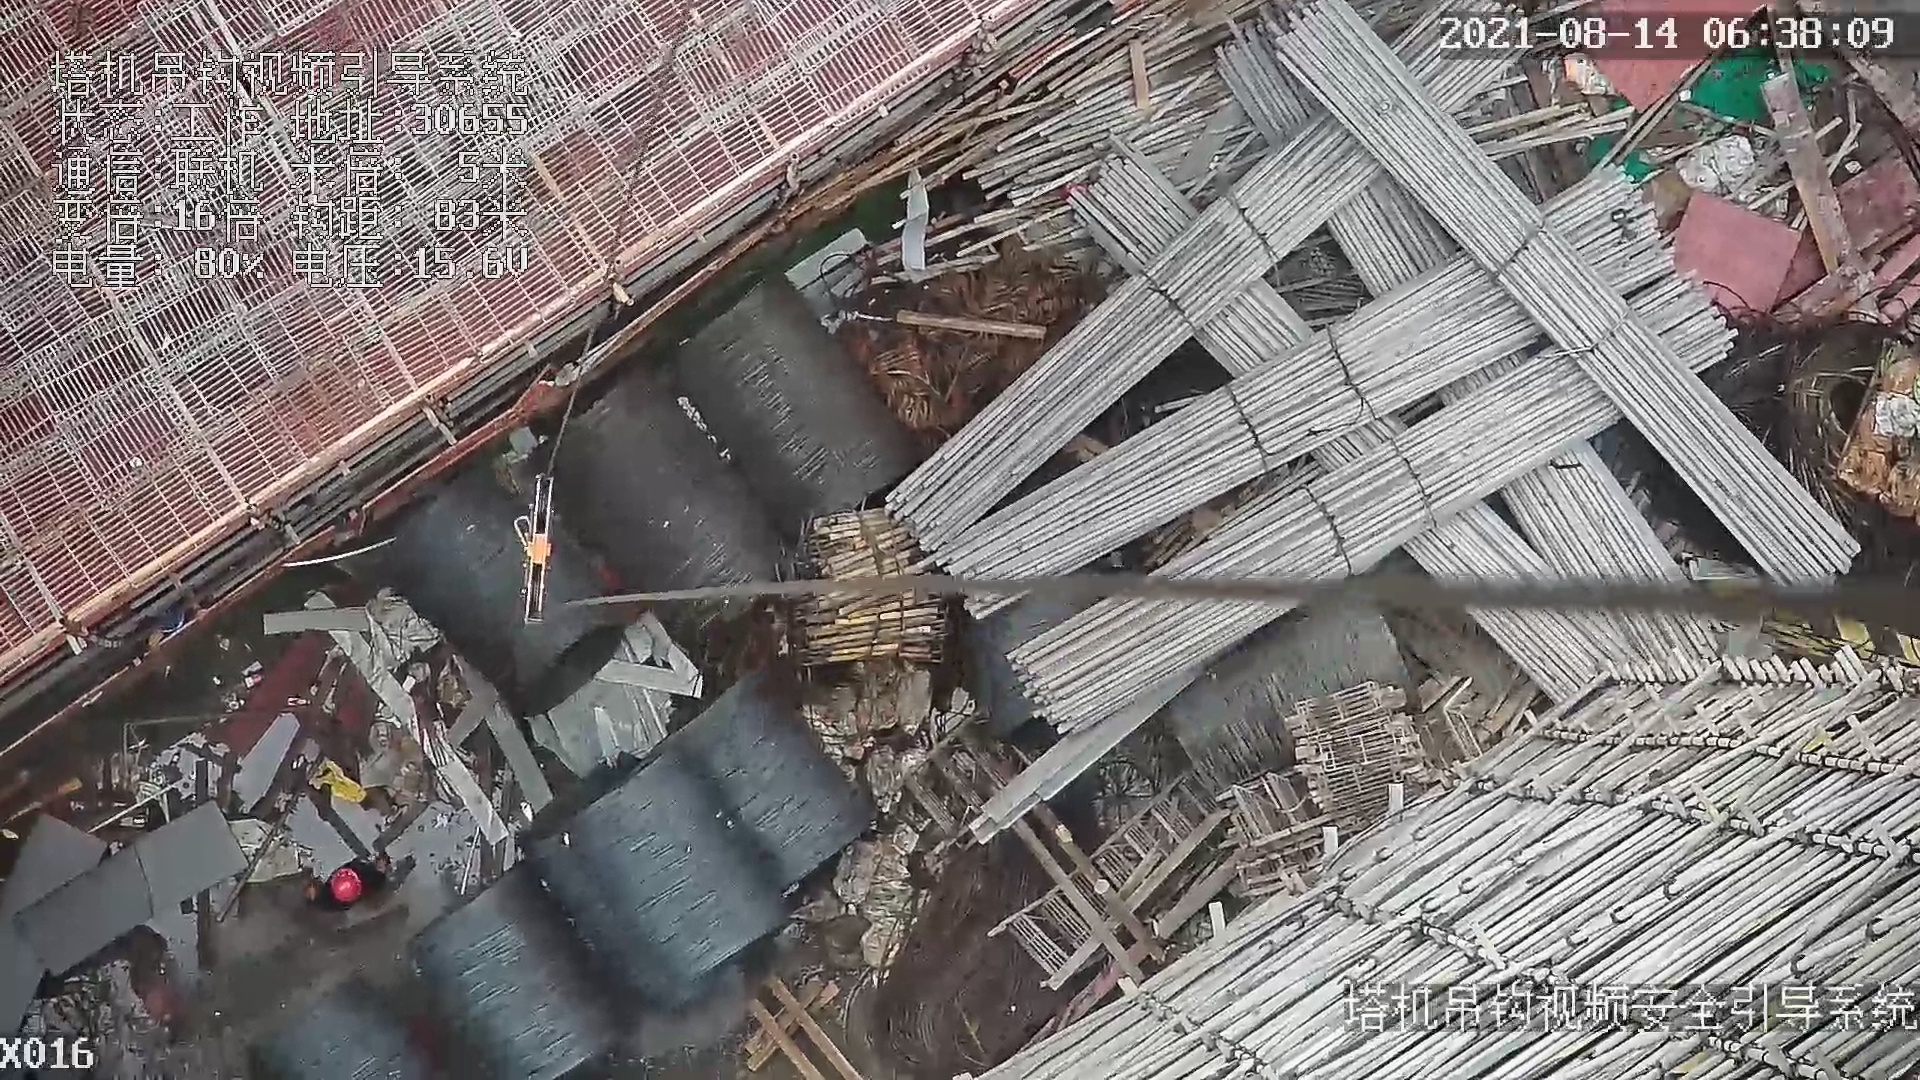helmet: (327, 864, 368, 908)
hook: (506, 474, 554, 630)
person: (308, 855, 410, 918)
scaffold: (974, 40, 1862, 603), (760, 505, 972, 677)
